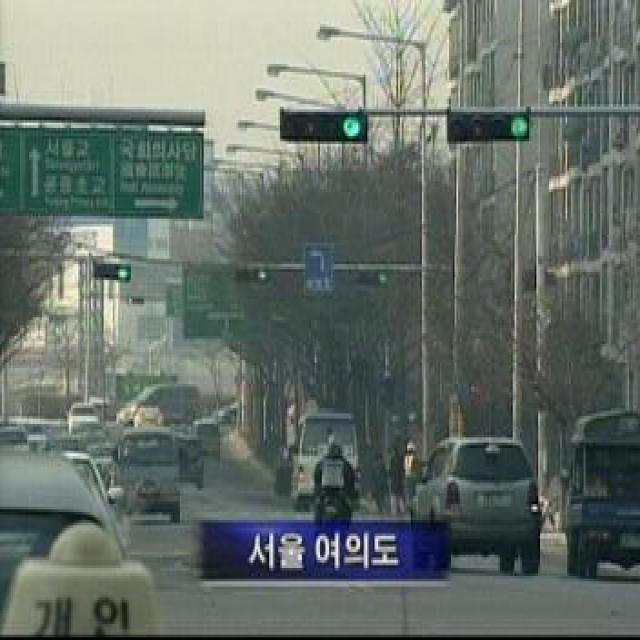Green_light: (281, 113, 369, 143), (446, 110, 534, 140)
